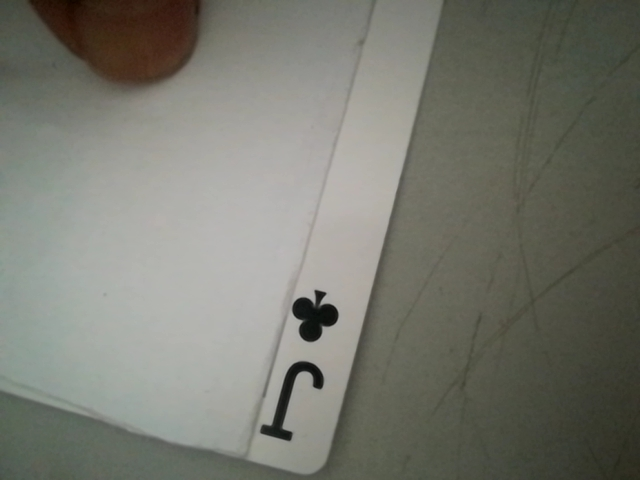mh j: (256, 281, 353, 456)
